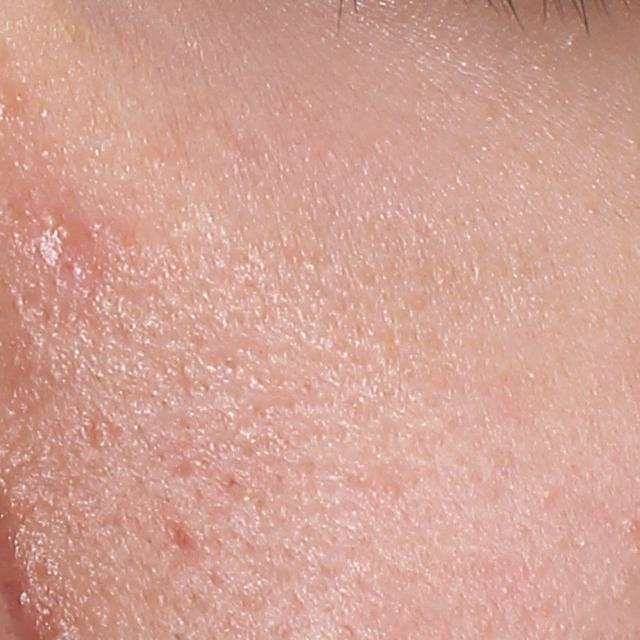comedo: (621, 518, 640, 536)
